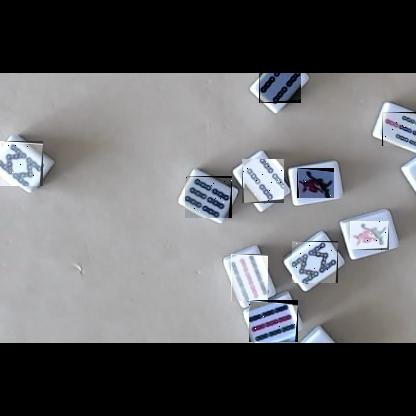1s: (350, 221, 389, 250), (297, 168, 334, 198)
4s: (242, 159, 284, 203), (259, 73, 301, 103)
6s: (185, 176, 232, 218)
7s: (382, 112, 416, 146)
8s: (0, 141, 43, 186), (292, 241, 338, 283)
9s: (249, 300, 298, 342), (231, 254, 268, 301)
